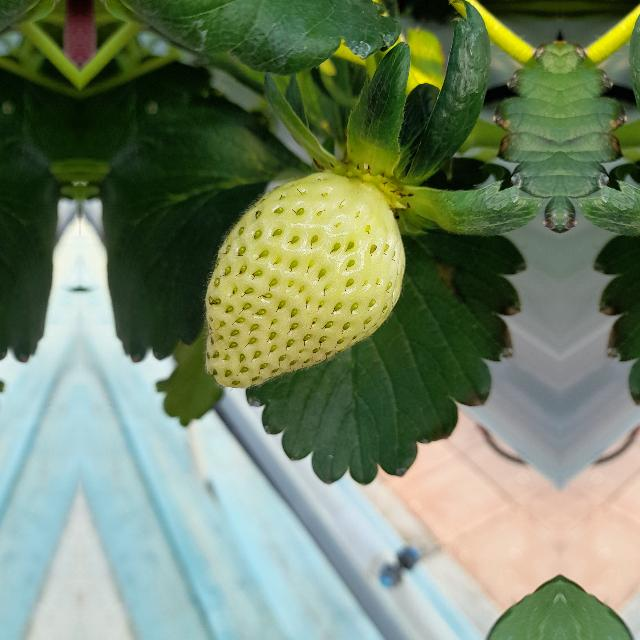Health_25: (204, 170, 406, 388)
